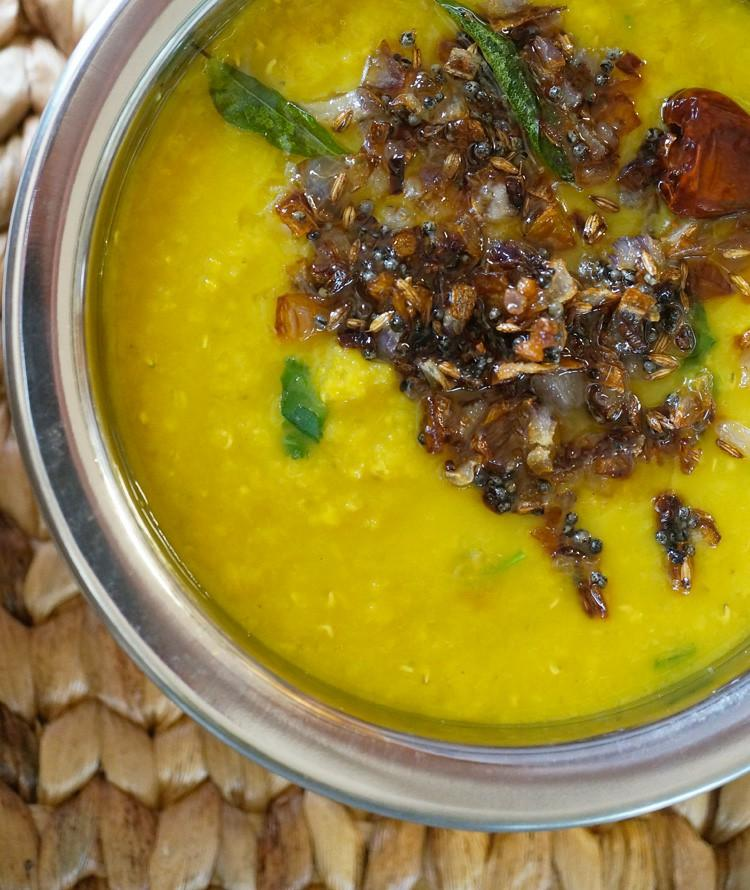Dal: (87, 0, 749, 750)
